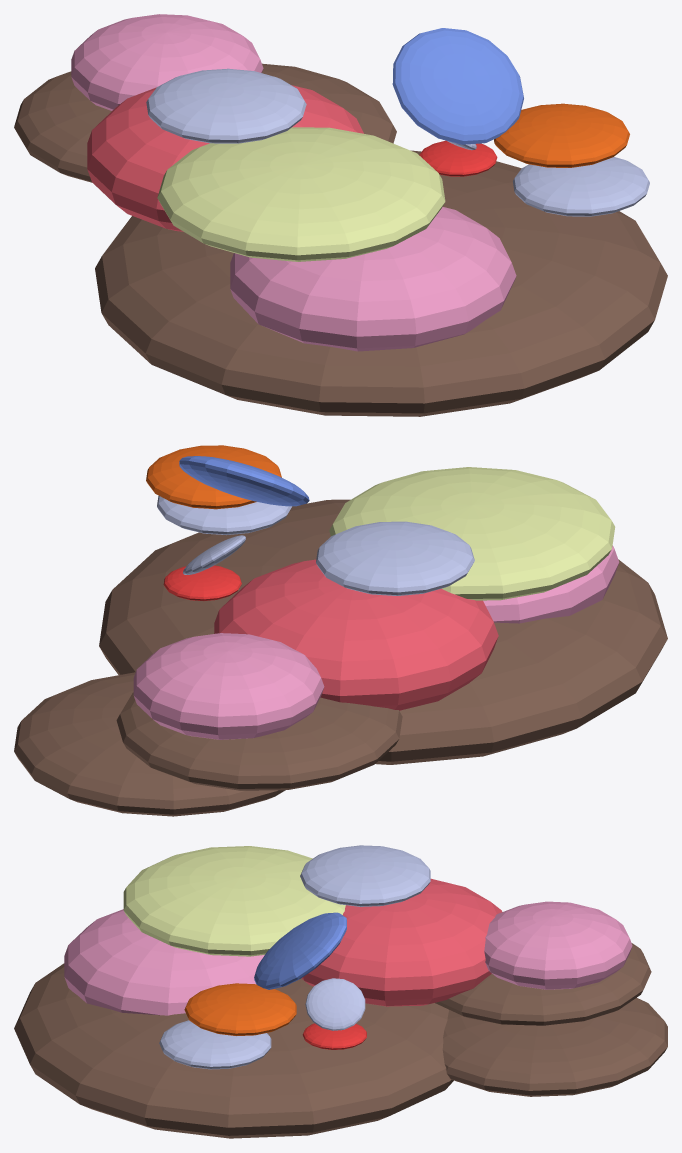
Rendered from stone1.fbx.
3 views of the same model, one above another, from view 1: azimuth 30°, elevation 25°; view 2: azimuth 150°, elevation 25°; view 3: azimuth 270°, elevation 25° (orthographic). The views are drawn at different scales.
Parts seen in each view (by area): view 1: Sphere.313, Sphere.310, Sphere.315, Sphere.317, Sphere.309, Sphere.308, Sphere.312, Sphere.318, Sphere.311, Sphere.320, Sphere.316, Sphere.319; view 2: Sphere.313, Sphere.308, Sphere.310, Sphere.316, Sphere.309, Sphere.311, Sphere.312, Sphere.318, Sphere.315, Sphere.317, Sphere.320, Sphere.319 (+1 smaller); view 3: Sphere.313, Sphere.310, Sphere.308, Sphere.316, Sphere.315, Sphere.309, Sphere.311, Sphere.312, Sphere.318, Sphere.317, Sphere.320, Sphere.321 (+1 smaller).
Part boxes in pixels (x1=…): Sphere.313: x1=95, y1=150, x2=667, y2=416; Sphere.310: x1=157, y1=127, x2=445, y2=261; Sphere.315: x1=230, y1=207, x2=516, y2=351; Sphere.317: x1=392, y1=28, x2=523, y2=144; Sphere.309: x1=71, y1=14, x2=263, y2=110; Sphere.308: x1=87, y1=85, x2=363, y2=231; Sphere.312: x1=146, y1=68, x2=306, y2=143; Sphere.318: x1=494, y1=103, x2=629, y2=167; Sphere.311: x1=14, y1=71, x2=111, y2=182; Sphere.320: x1=513, y1=157, x2=649, y2=216; Sphere.316: x1=262, y1=63, x2=396, y2=143; Sphere.319: x1=419, y1=140, x2=497, y2=176; Sphere.313: x1=99, y1=499, x2=667, y2=764; Sphere.308: x1=214, y1=559, x2=498, y2=710; Sphere.310: x1=329, y1=467, x2=615, y2=600; Sphere.316: x1=14, y1=672, x2=285, y2=816; Sphere.309: x1=133, y1=633, x2=324, y2=739; Sphere.311: x1=116, y1=692, x2=402, y2=790; Sphere.312: x1=316, y1=521, x2=474, y2=595; Sphere.318: x1=146, y1=445, x2=281, y2=509; Sphere.315: x1=483, y1=545, x2=619, y2=623; Sphere.317: x1=179, y1=456, x2=309, y2=506; Sphere.320: x1=157, y1=496, x2=291, y2=535; Sphere.319: x1=163, y1=565, x2=241, y2=601; Sphere.313: x1=14, y1=963, x2=453, y2=1138; Sphere.310: x1=123, y1=846, x2=345, y2=956; Sphere.308: x1=301, y1=878, x2=502, y2=1006; Sphere.316: x1=442, y1=998, x2=667, y2=1096; Sphere.315: x1=64, y1=909, x2=264, y2=1015; Sphere.309: x1=484, y1=901, x2=632, y2=989; Sphere.311: x1=435, y1=943, x2=651, y2=1025; Sphere.312: x1=300, y1=845, x2=430, y2=906; Sphere.318: x1=184, y1=983, x2=296, y2=1035; Sphere.317: x1=254, y1=912, x2=346, y2=989; Sphere.320: x1=159, y1=1020, x2=271, y2=1069; Sphere.321: x1=305, y1=978, x2=365, y2=1030.
Size of the model in its own units: 380 by 177 by 529.
